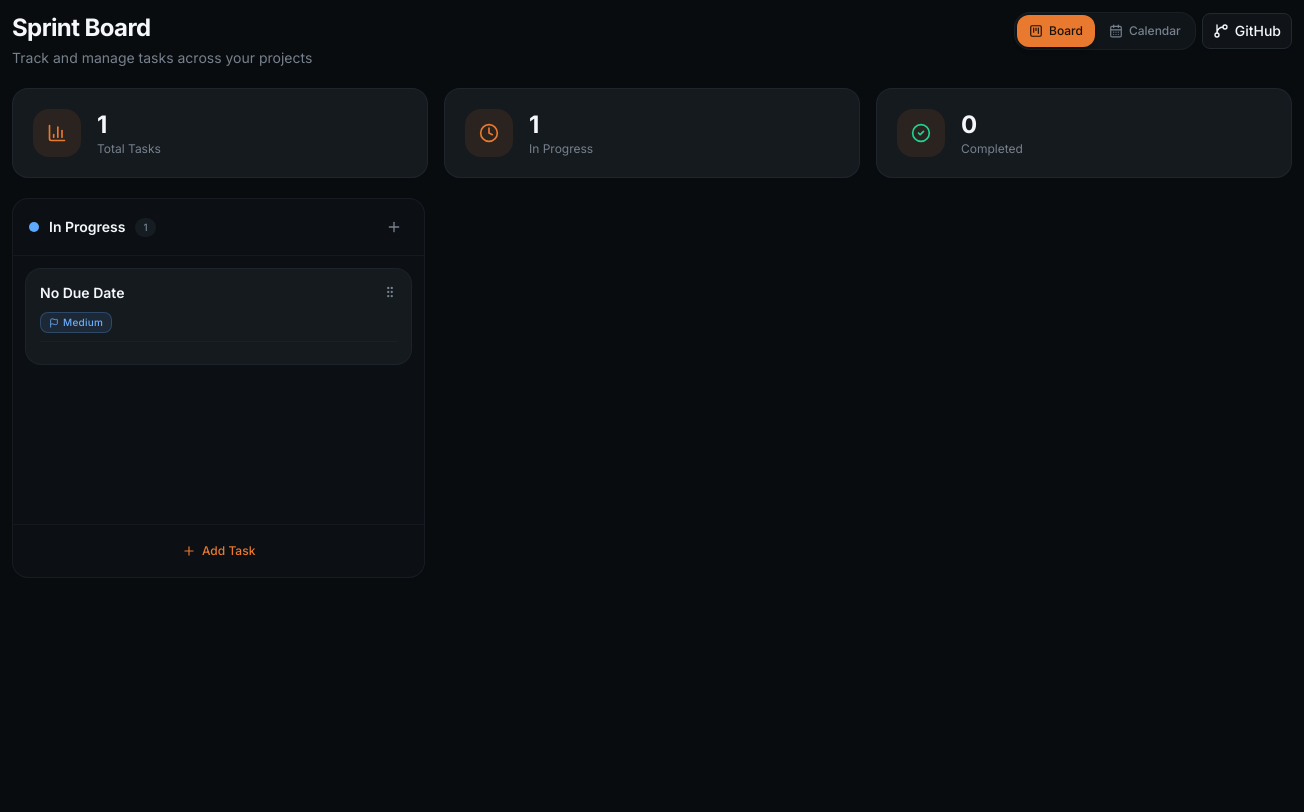
Test: BoardPage calendar › does not render tasks without a due date on the calendar
The width and height of the screenshot is (1304, 812).
Expected: the heading "Sprint Board" is shown, [12,13,150,42]
Step 1. Click the button "Calendar" → (1145, 31), box [1097,15,1193,47]
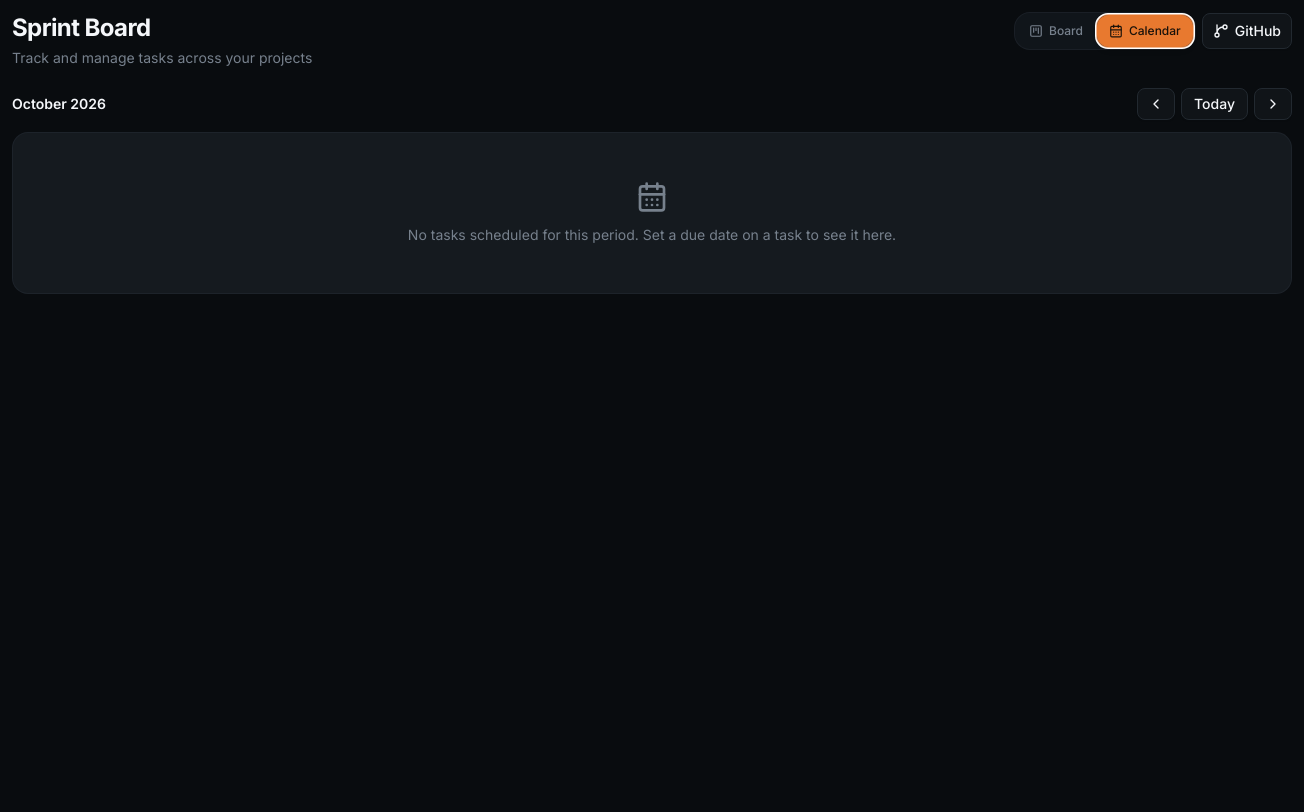
Now the text "No tasks scheduled for this period" is shown, box [408,226,896,243]
Now the text "No Due Date" is gone
